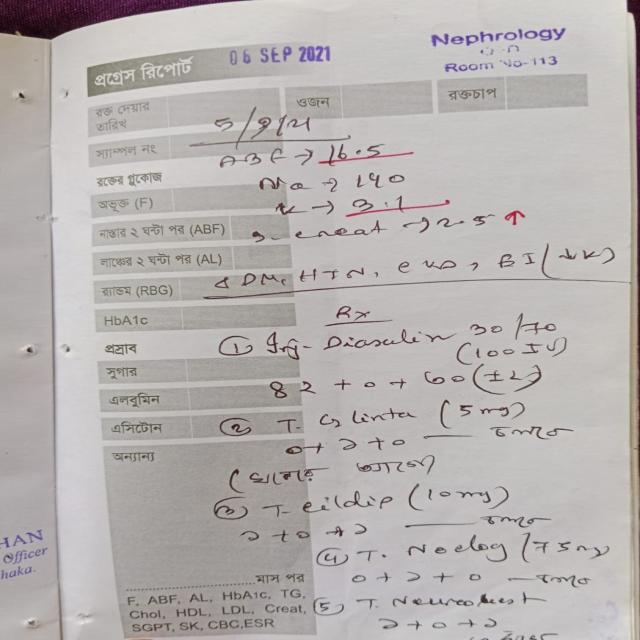Cildip: (297, 487, 397, 519)
Diasulin: (316, 319, 565, 354)
Glinta: (311, 400, 424, 434)
Neurobest: (387, 583, 544, 621)
Noclog: (394, 531, 518, 567)
